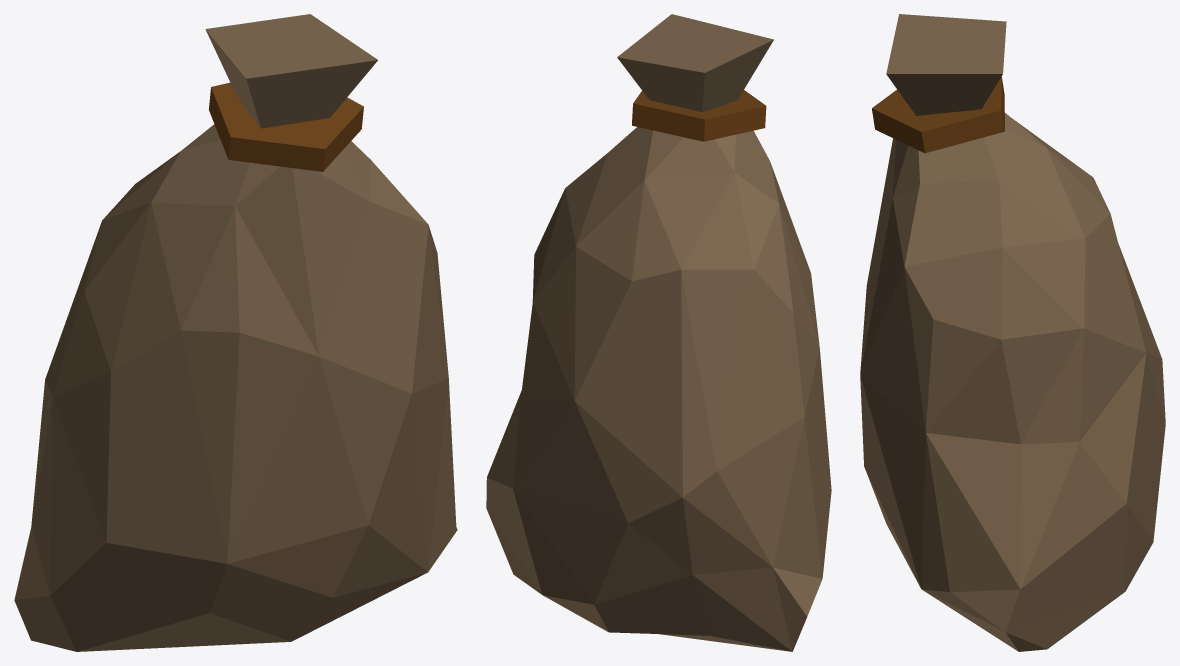
Rendered from Sack1.fbx.
The picture shows the model from 3 angles, left to right: view 1: azimuth 30°, elevation 25°; view 2: azimuth 150°, elevation 25°; view 3: azimuth 270°, elevation 25°; orthographic projection. The views are drawn at different scales.
Visible parts, largest first — view 1: Sack1; view 2: Sack1; view 3: Sack1.
Boxes of the visible parts, left/top/right/bottom form: Sack1: left=14, top=14, right=457, bottom=651; Sack1: left=486, top=14, right=831, bottom=651; Sack1: left=860, top=14, right=1165, bottom=651.
Size of the model in its own units: 0.4568 by 0.3339 by 0.6765.
